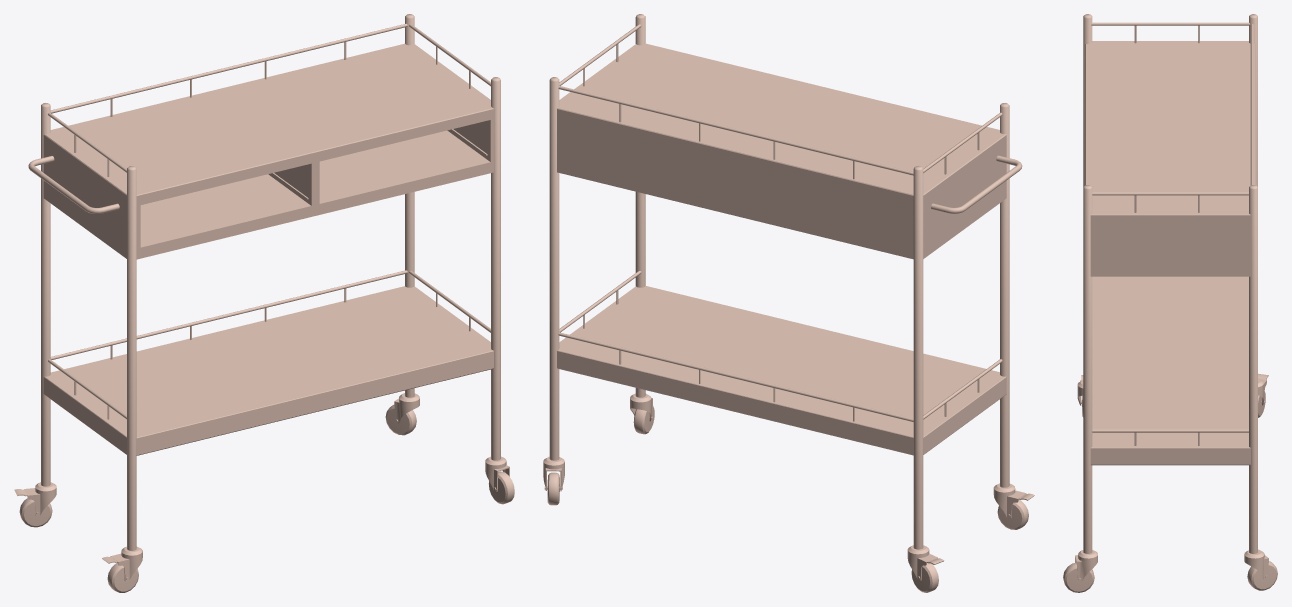
Rendered from Medical_Cart03.fbx.
3 views of the same model, side by side, from view 1: azimuth 30°, elevation 25°; view 2: azimuth 150°, elevation 25°; view 3: azimuth 270°, elevation 25° (orthographic). The views are drawn at different scales.
Visible parts, largest first — view 1: SM_Medical_Cart03; view 2: SM_Medical_Cart03; view 3: SM_Medical_Cart03.
Part boxes in pixels (x1=…): SM_Medical_Cart03: x1=14, y1=14, x2=514, y2=592; SM_Medical_Cart03: x1=543, y1=14, x2=1034, y2=592; SM_Medical_Cart03: x1=1063, y1=14, x2=1277, y2=592.
Bounding box in the file's own units: 1.22 × 1.21 × 0.5826.
